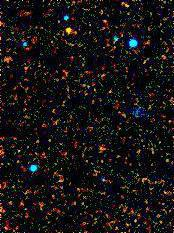star: (55, 13, 85, 43)
